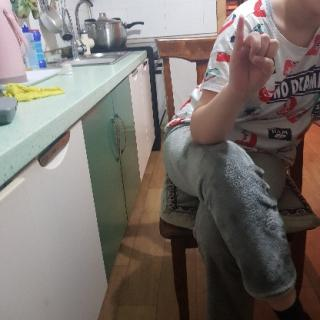MEEM: (230, 14, 280, 104)
